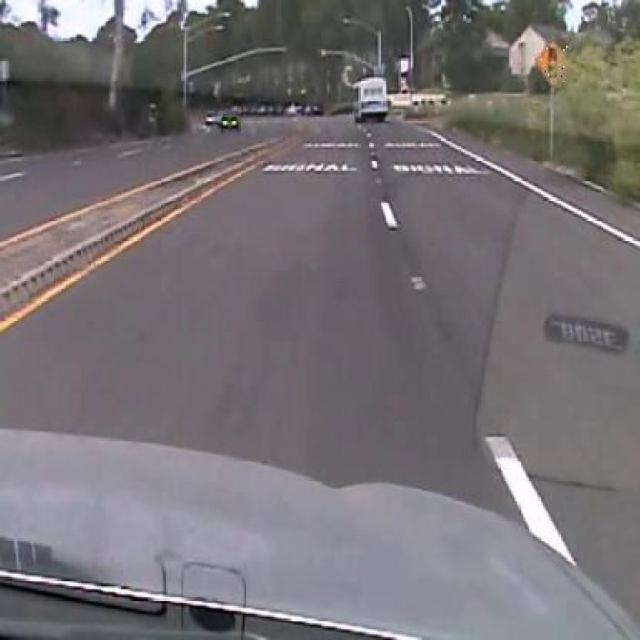signalAhead: (536, 40, 570, 87)
